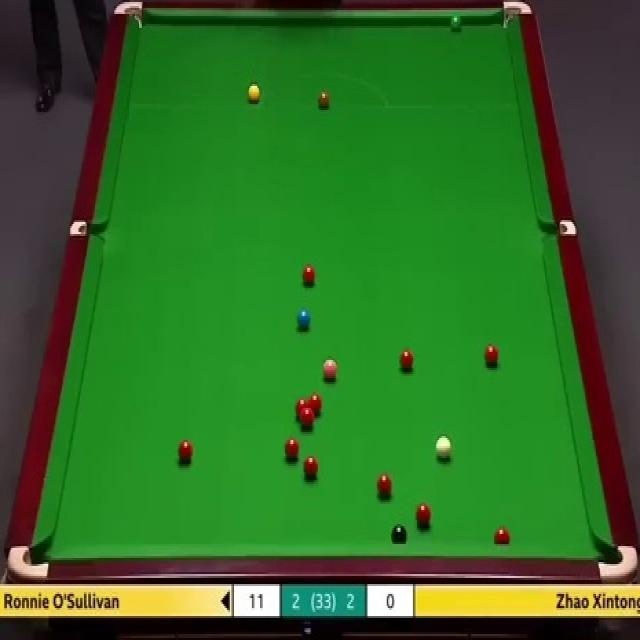black-ball: (389, 524, 407, 546)
blue-ball: (295, 308, 311, 333)
brown-ball: (316, 88, 330, 111)
green-ball: (449, 13, 464, 32)
pink-ball: (323, 354, 338, 382)
red-ball: (398, 347, 416, 375), (302, 455, 319, 483), (177, 439, 194, 466), (414, 503, 431, 529), (377, 472, 393, 497), (286, 436, 302, 461), (302, 266, 318, 290), (484, 343, 499, 368), (308, 394, 322, 418), (494, 526, 510, 546), (301, 410, 314, 430), (295, 398, 308, 418)
white-ball: (434, 434, 452, 462)
yellow-ball: (246, 83, 260, 103)
